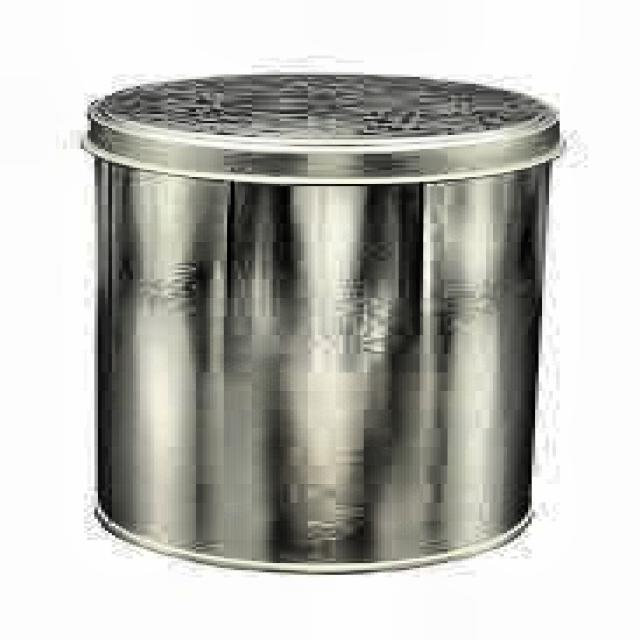can: (62, 67, 576, 614)
